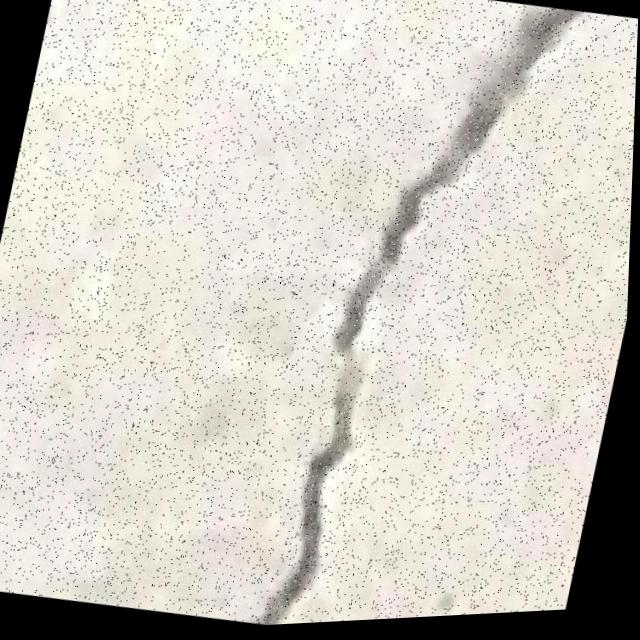Crack: (236, 0, 595, 630)
